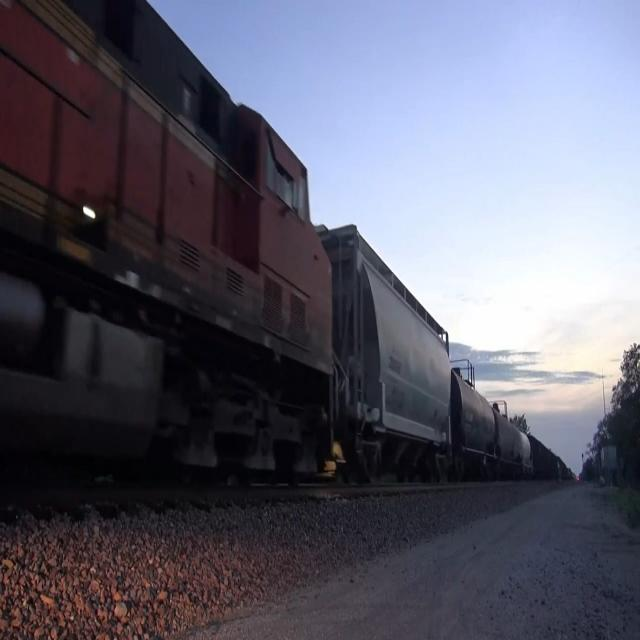hopper: (334, 206, 456, 494)
locomotive: (0, 0, 344, 523)
